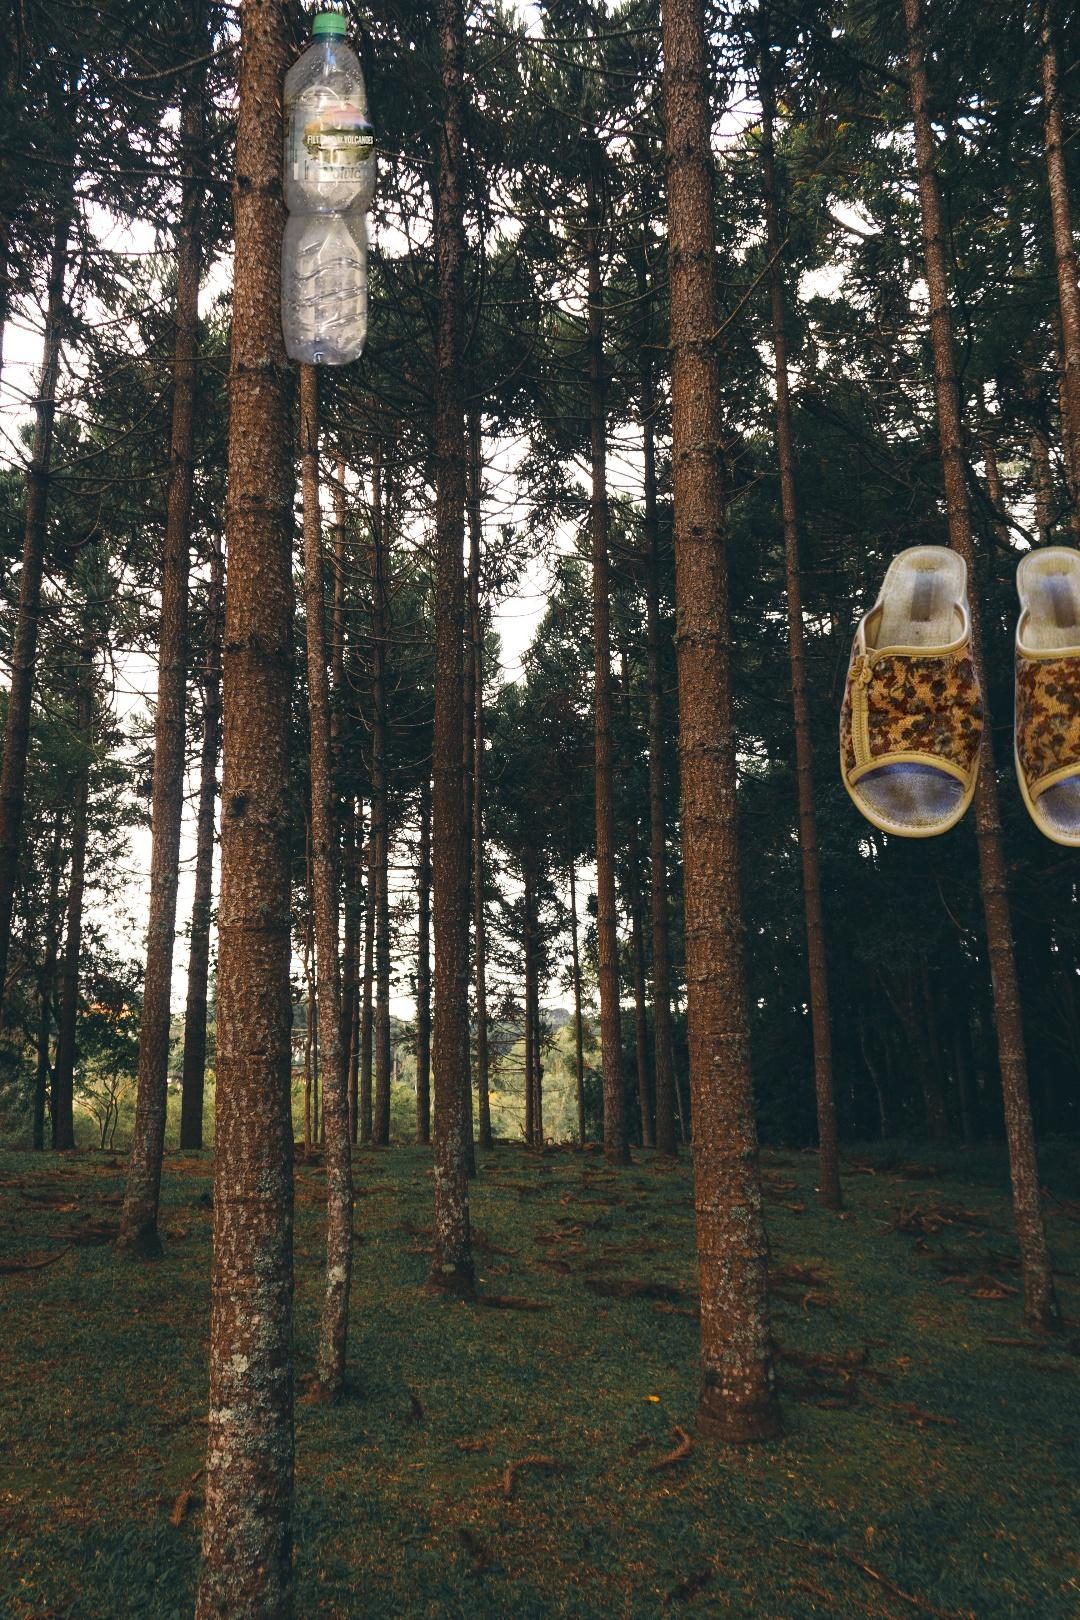plastic-bottles: (276, 2, 382, 376)
shoes: (837, 540, 1080, 853)
